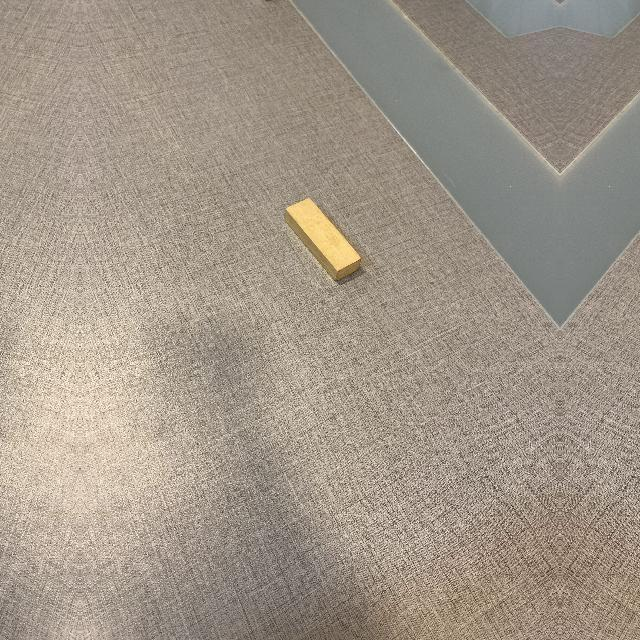jenga: (284, 199, 361, 284)
